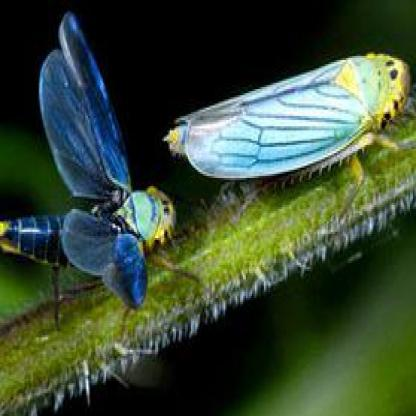Green-Leafhopper: (0, 6, 205, 296), (165, 52, 416, 224)
